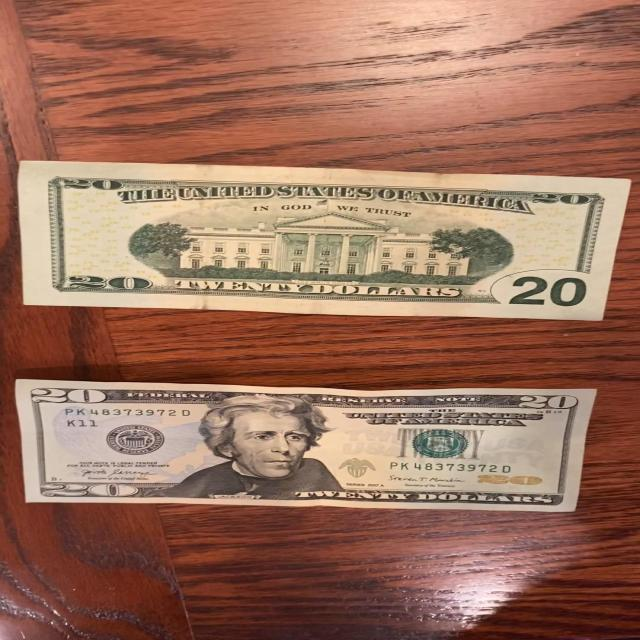20-Back: (15, 160, 636, 326)
20-Front: (10, 366, 603, 524)
